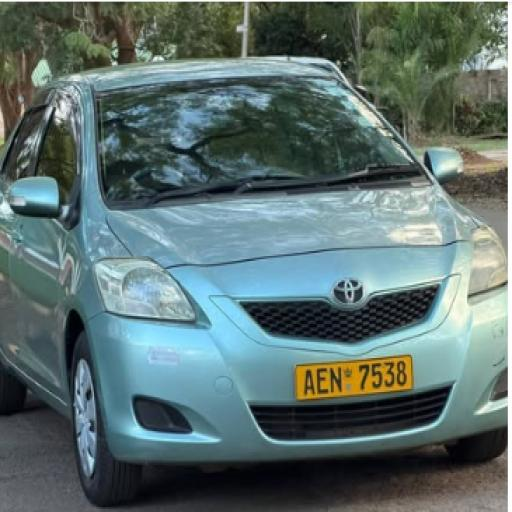number-plates: (296, 356, 415, 396)
